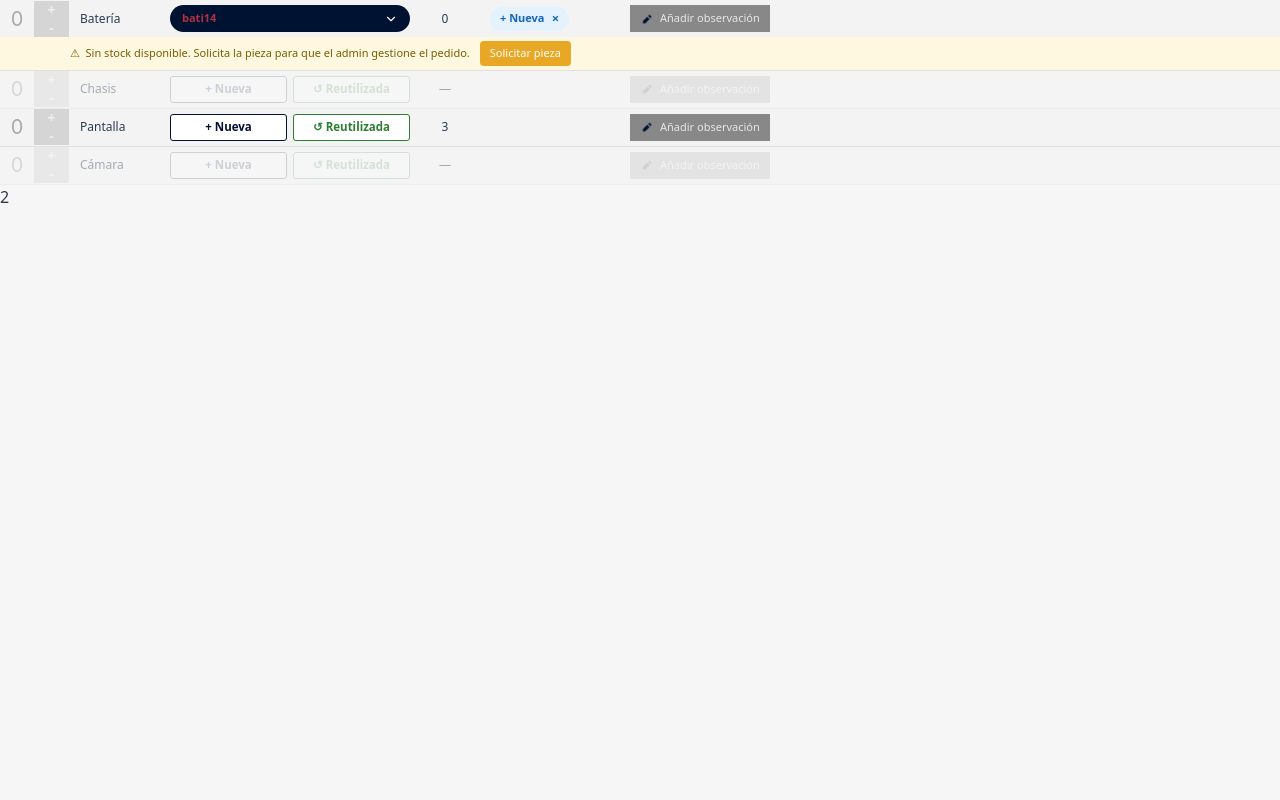
Test: SubFilaAgotado (ficha docs/paridad/formulario.md · Sub-fila de agotado y solicitud de pieza) › confirmar deja la sub-fila verde con lápiz y sin botón ámbar, bloquea la fila y oculta el botón derecho
The width and height of the screenshot is (1280, 800).
Click the button "Solicitar pieza": click(525, 53) [480,41,571,66]
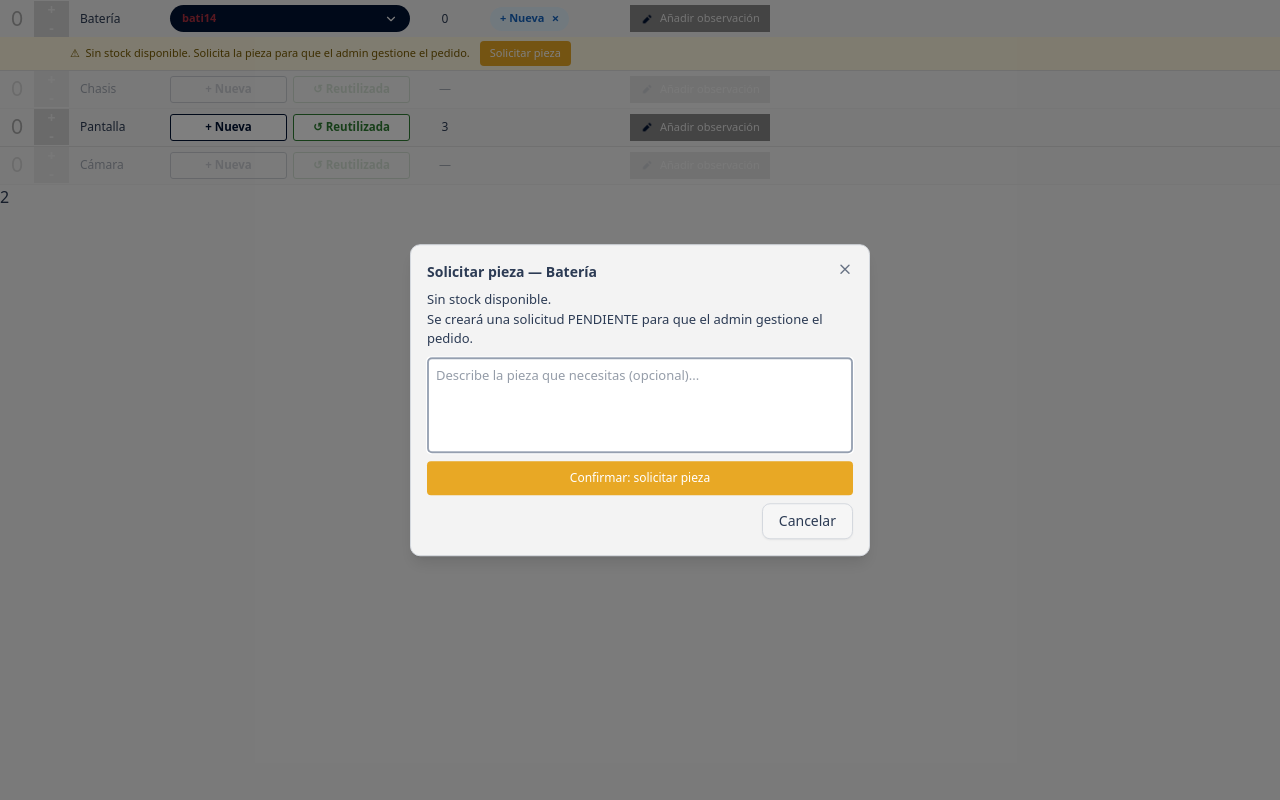
Click the button "Confirmar: solicitar pieza": click(640, 478) [427,461,853,495]
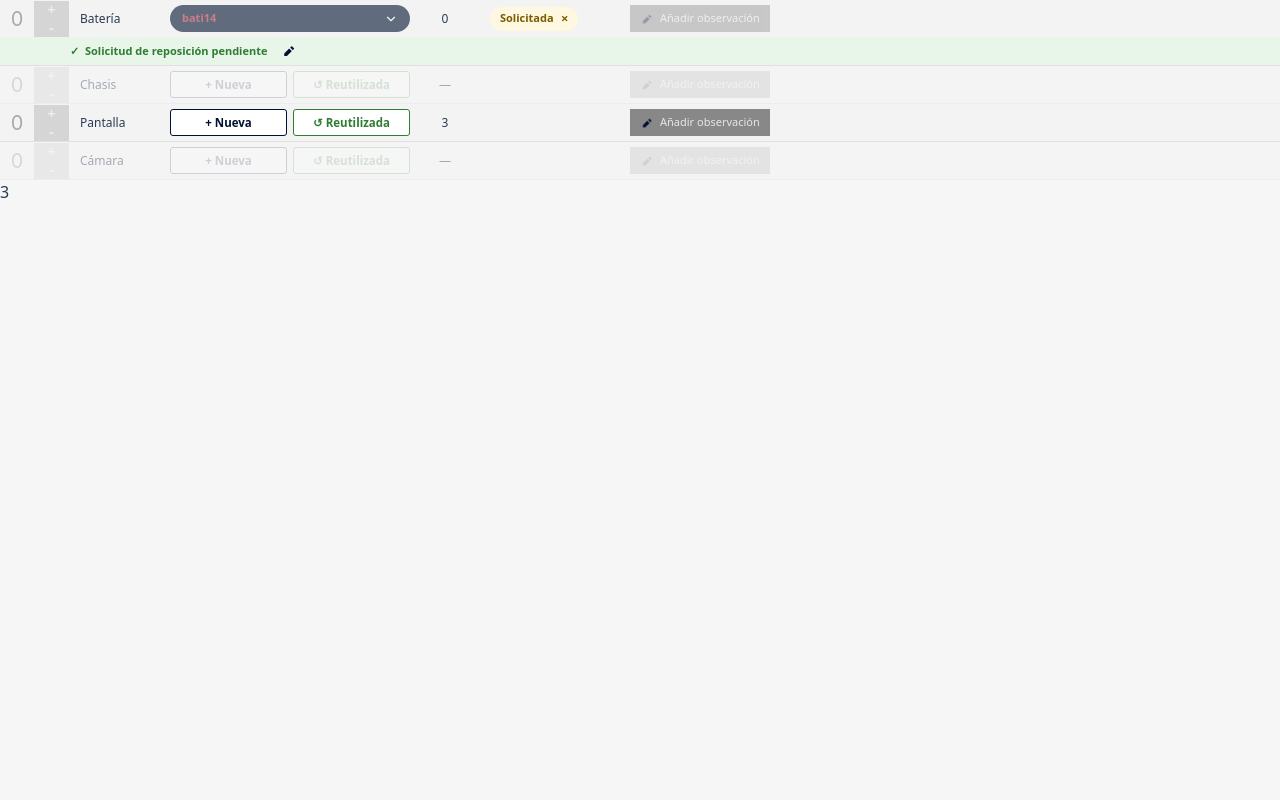
Expected: the dialog is gone
Expected: the text "✓ Solicitud de reposición pendiente" is shown, [70,43,268,59]
Expected: the button "Solicitar pieza" is gone
